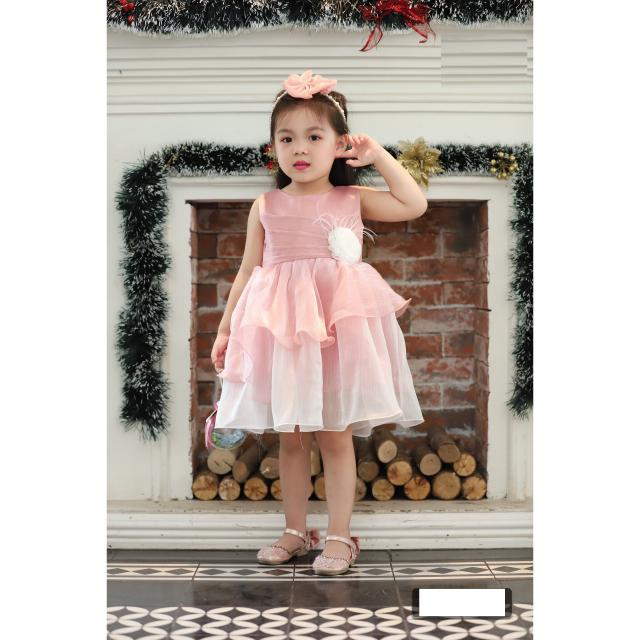clothes: (224, 182, 428, 446)
